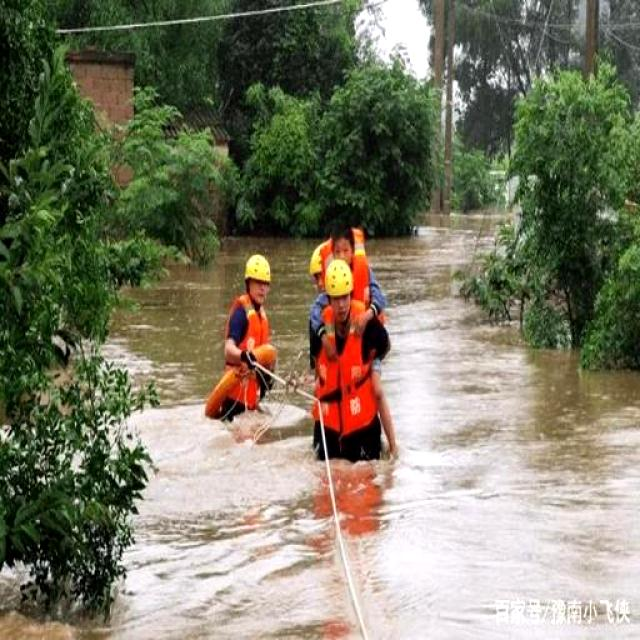civilian: (298, 221, 415, 461)
rescuer: (299, 256, 397, 482), (205, 242, 287, 439)
